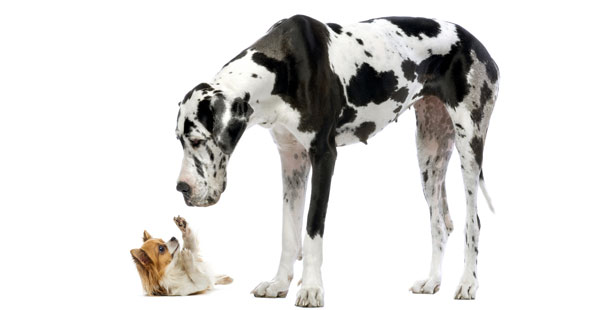dog: (175, 13, 501, 310), (133, 216, 236, 310)
